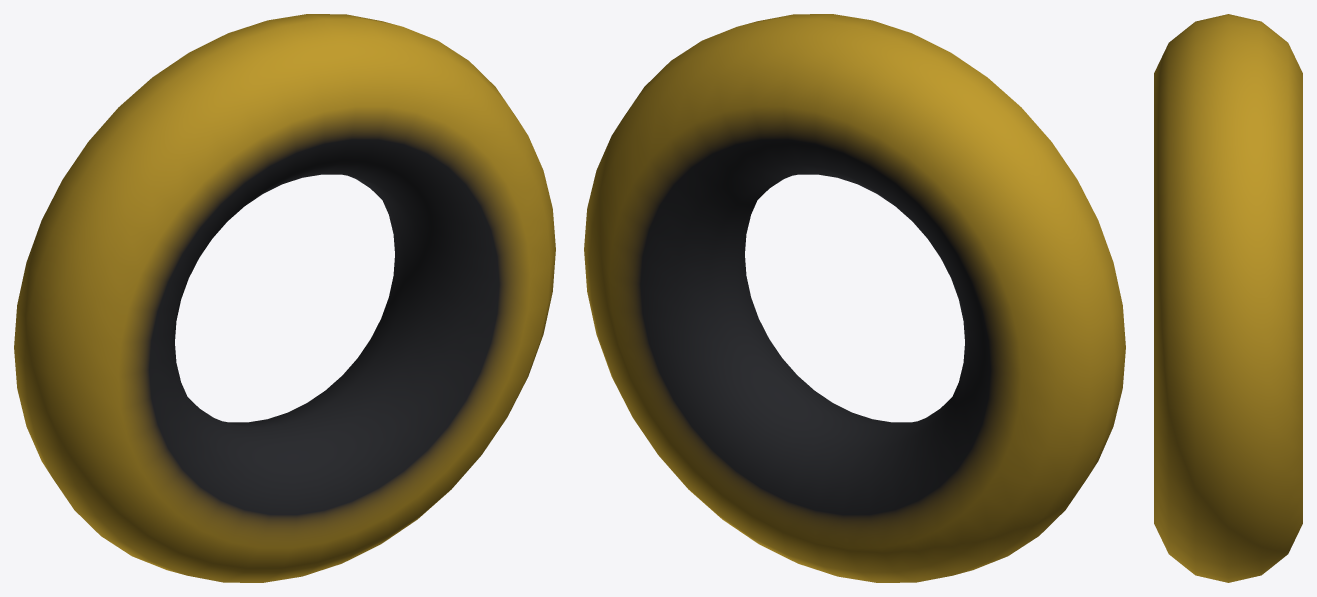
File: Park_Tire_Yellow.fbx
3 renders of one model, left to right at view 1: azimuth 30°, elevation 25°; view 2: azimuth 150°, elevation 25°; view 3: azimuth 270°, elevation 25°, orthographic. The views are drawn at different scales.
Visible parts, largest first — view 1: Park_Tire_Yellow; view 2: Park_Tire_Yellow; view 3: Park_Tire_Yellow.
Part boxes in pixels (bbox=[...]): Park_Tire_Yellow: bbox=[14, 14, 555, 582]; Park_Tire_Yellow: bbox=[584, 14, 1125, 582]; Park_Tire_Yellow: bbox=[1154, 14, 1302, 582].
Size of the model in its own units: 8.2 by 8.2 by 2.14.
